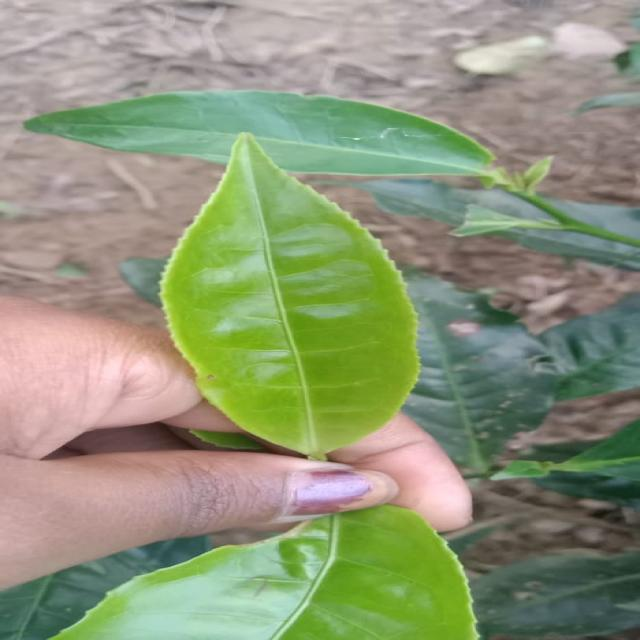Category B 2-4 days: (153, 123, 508, 465)
